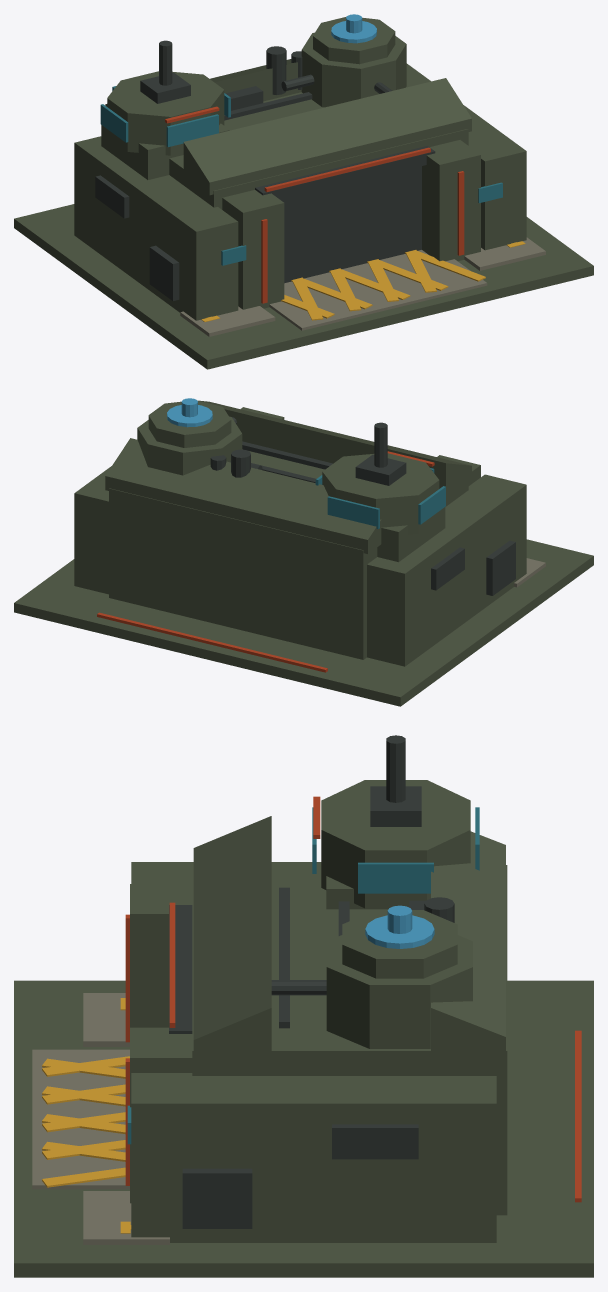
Rendered from Bastion_FabricationHub_Base.obj.
3 renders of one model, top to bottom at view 1: azimuth 30°, elevation 25°; view 2: azimuth 150°, elevation 25°; view 3: azimuth 270°, elevation 25°, orthographic. The views are drawn at different scales.
Visible parts, largest first — view 1: Bastion_FabricationHub_Base; view 2: Bastion_FabricationHub_Base; view 3: Bastion_FabricationHub_Base.
Boxes of the visible parts, x1=… form: Bastion_FabricationHub_Base: x1=14, y1=14, x2=593, y2=369; Bastion_FabricationHub_Base: x1=14, y1=398, x2=593, y2=706; Bastion_FabricationHub_Base: x1=14, y1=735, x2=593, y2=1277.
Bounding box in the file's own units: 12 × 6.29 × 10.4.
Materials: 1 (1 with a texture image).
